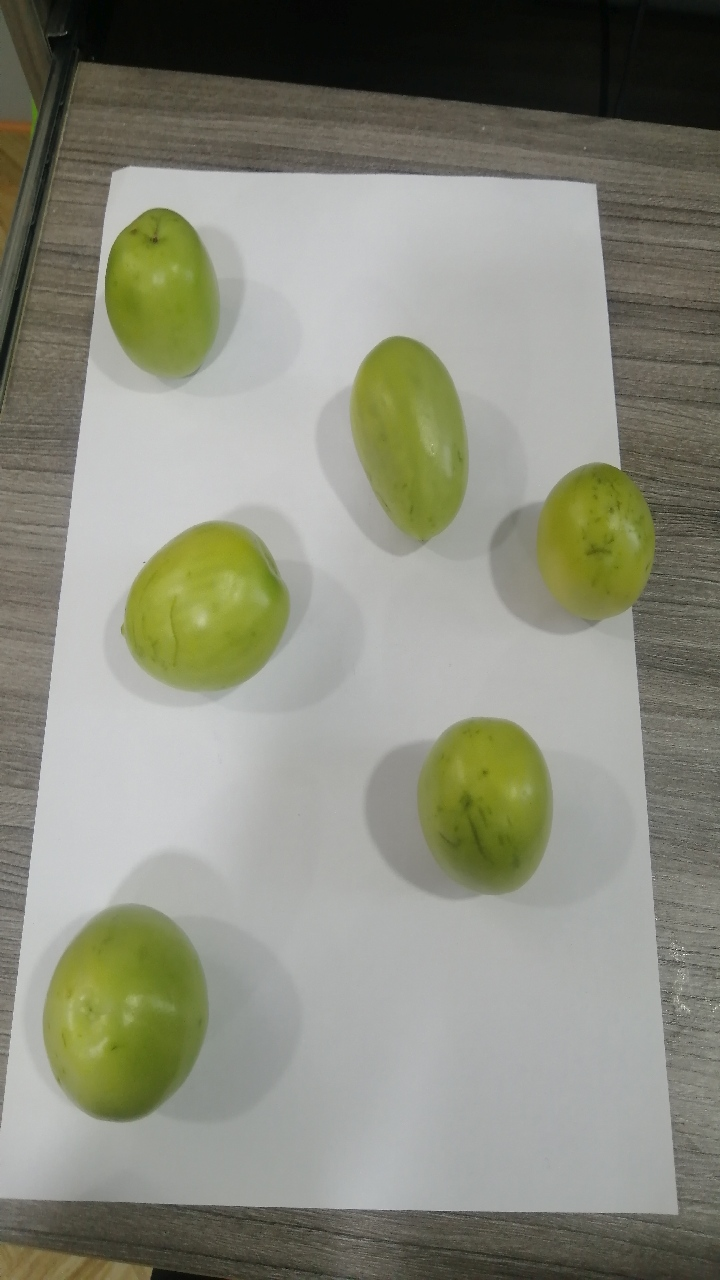tomateVerde: (24, 880, 224, 1126), (92, 505, 314, 706), (331, 309, 481, 560), (398, 694, 568, 906), (506, 445, 678, 620), (88, 200, 237, 395)
